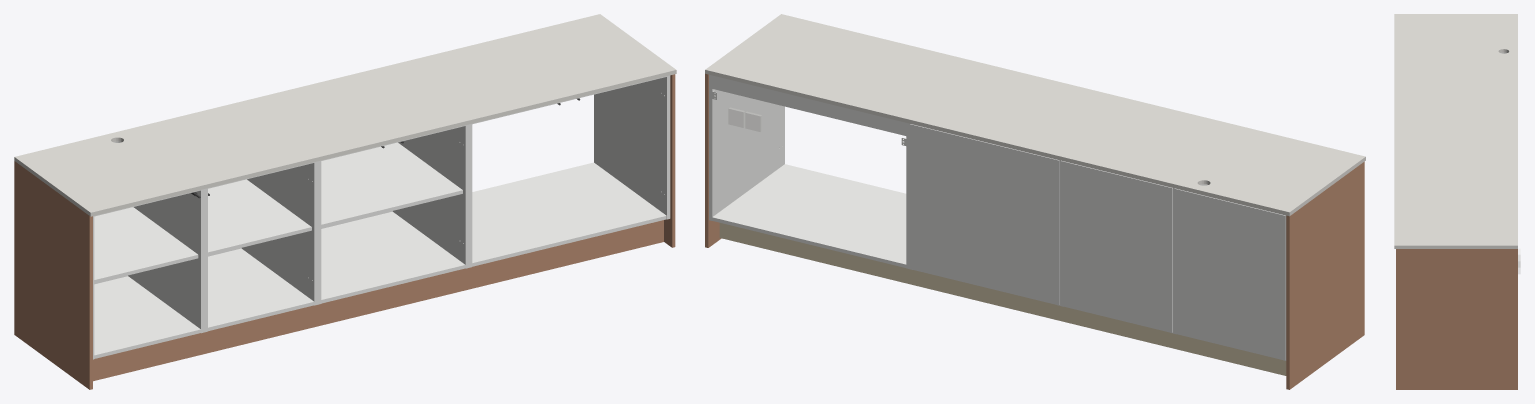
The model's file is korpus.glb.
3 renders of one model, left to right at view 1: azimuth 30°, elevation 25°; view 2: azimuth 150°, elevation 25°; view 3: azimuth 270°, elevation 25°, orthographic. The views are drawn at different scales.
Bounding box in the file's own units: 3100 × 900 × 715.
